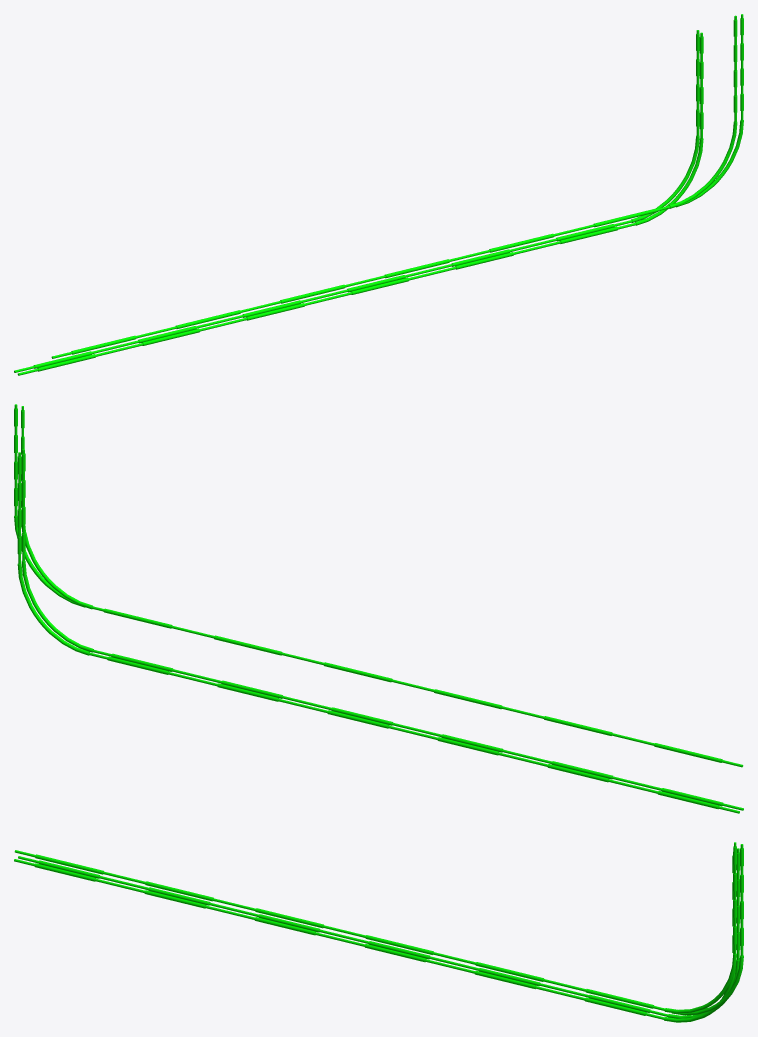
File: 10_cooling system.glb
3 views of the same model, one above another, from view 1: azimuth 30°, elevation 25°; view 2: azimuth 150°, elevation 25°; view 3: azimuth 330°, elevation 25° (orthographic). The views are drawn at different scales.
Size of the model in its own units: 0.3223 by 0.0875 by 0.0175.
